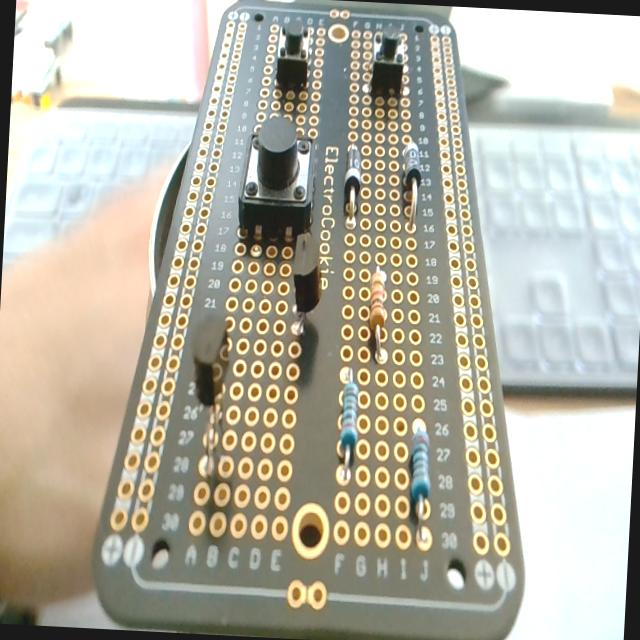diode: (400, 138, 424, 227), (342, 144, 363, 218)
resistor: (406, 428, 436, 542), (336, 372, 361, 480), (366, 267, 392, 364)
switch: (236, 116, 318, 248), (370, 23, 407, 98), (275, 17, 310, 90)
transistor: (187, 314, 233, 481), (288, 238, 328, 322)
